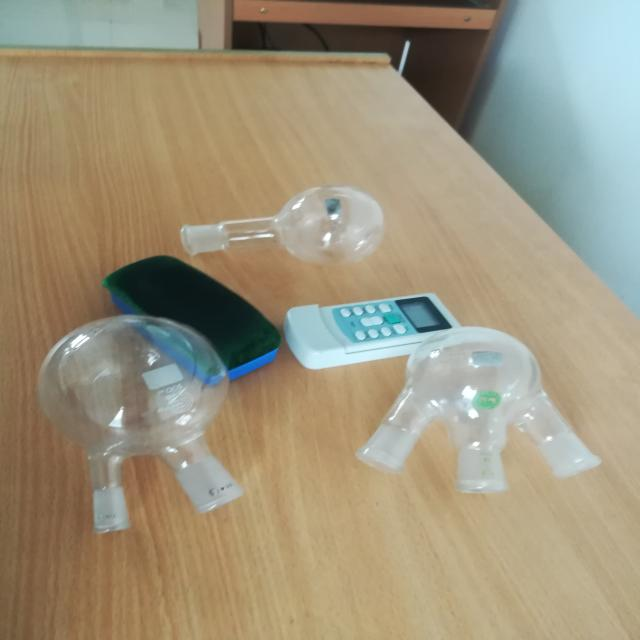Round_Bottom_Flask_Borosilicate_Glass_1_Neck: (144, 158, 424, 294)
Round_Bottom_Flask_Borosilicate_Glass_2_Neck: (0, 299, 278, 591)
Round_Bottom_Flask_Borosilicate_Glass_3_Neck: (327, 315, 640, 536)
